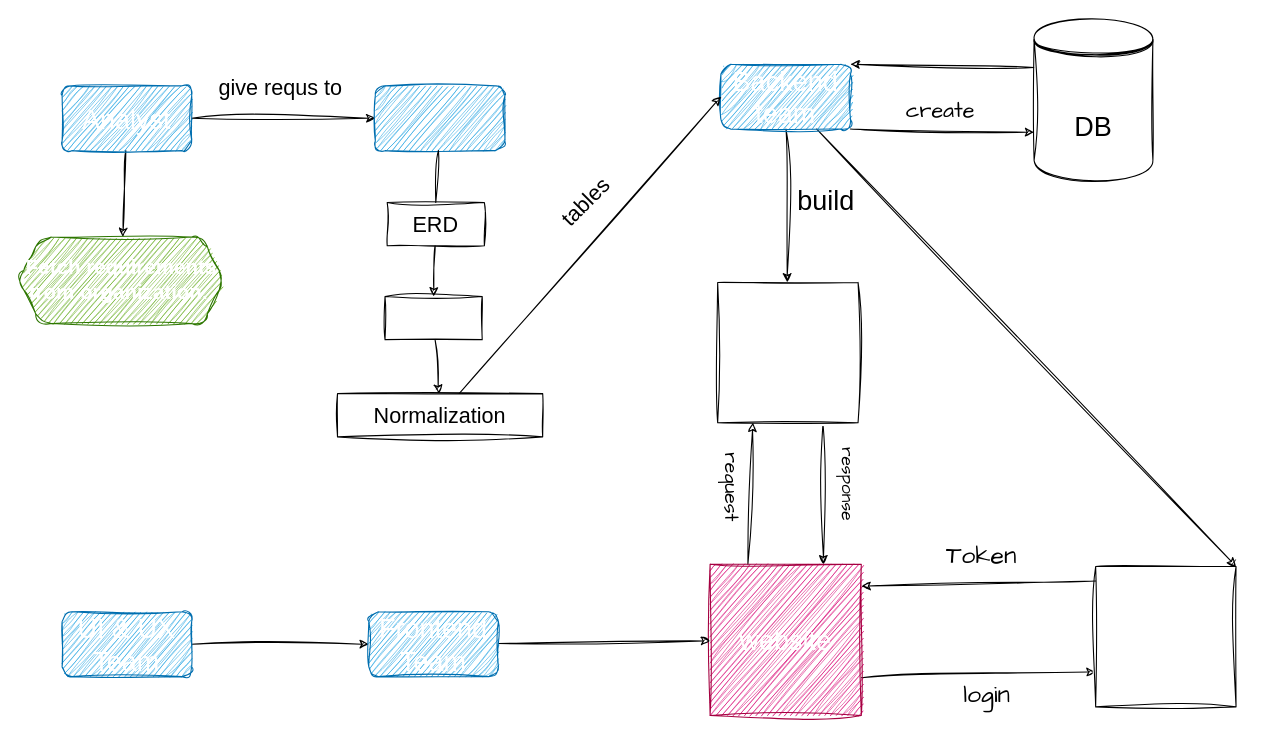
Image size: 1264x734. Some labels were removed from this diagram. The centre of each missing label's shape, as x and y in pixels:
Authn srever: point (1165, 636)
Database team: point (439, 118)
Mapping: point (433, 317)
server: point (787, 352)
